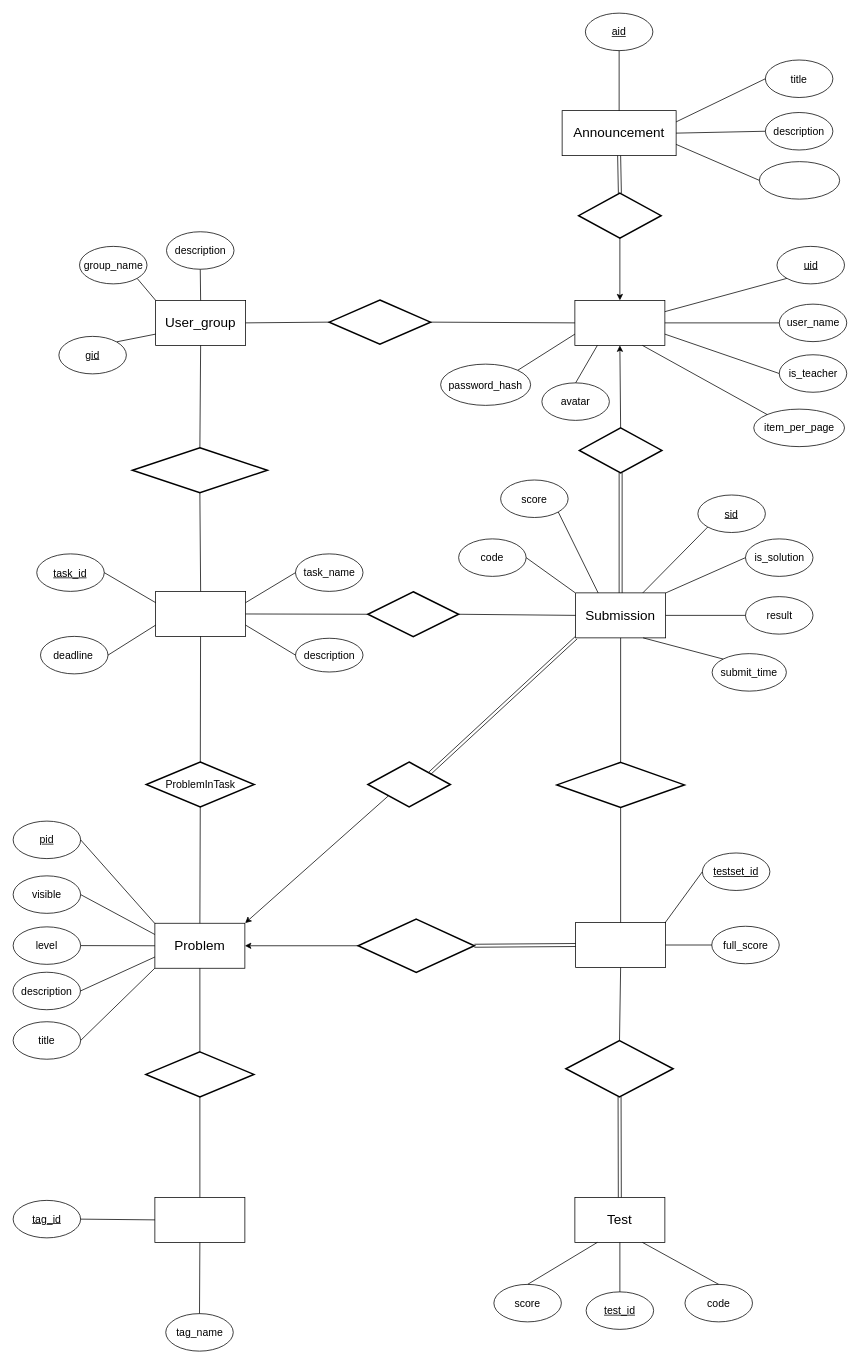
The diagram is 860 pixels wide and 1364 high, and some of its shapes have lost their labels. Here are the shapes that lost their labels. From the top down, the box of each, then its label:
(759, 161, 840, 199): publish_time
(578, 192, 662, 238): Write
(328, 299, 431, 345): UserInGroup
(574, 300, 665, 345): User
(131, 447, 268, 493): TaskForUserGroup
(578, 427, 662, 473): Submit
(155, 591, 246, 636): Task
(367, 591, 459, 637): SubInTask
(367, 761, 451, 807): SubRelatePro
(556, 761, 685, 808): TestsetCheckSub
(357, 918, 475, 973): ProHasTestSet
(575, 922, 666, 968): Testset
(145, 1051, 254, 1097): TagOfProblem
(565, 1040, 674, 1097): TestSetHasTest
(154, 1197, 245, 1242): Tag
